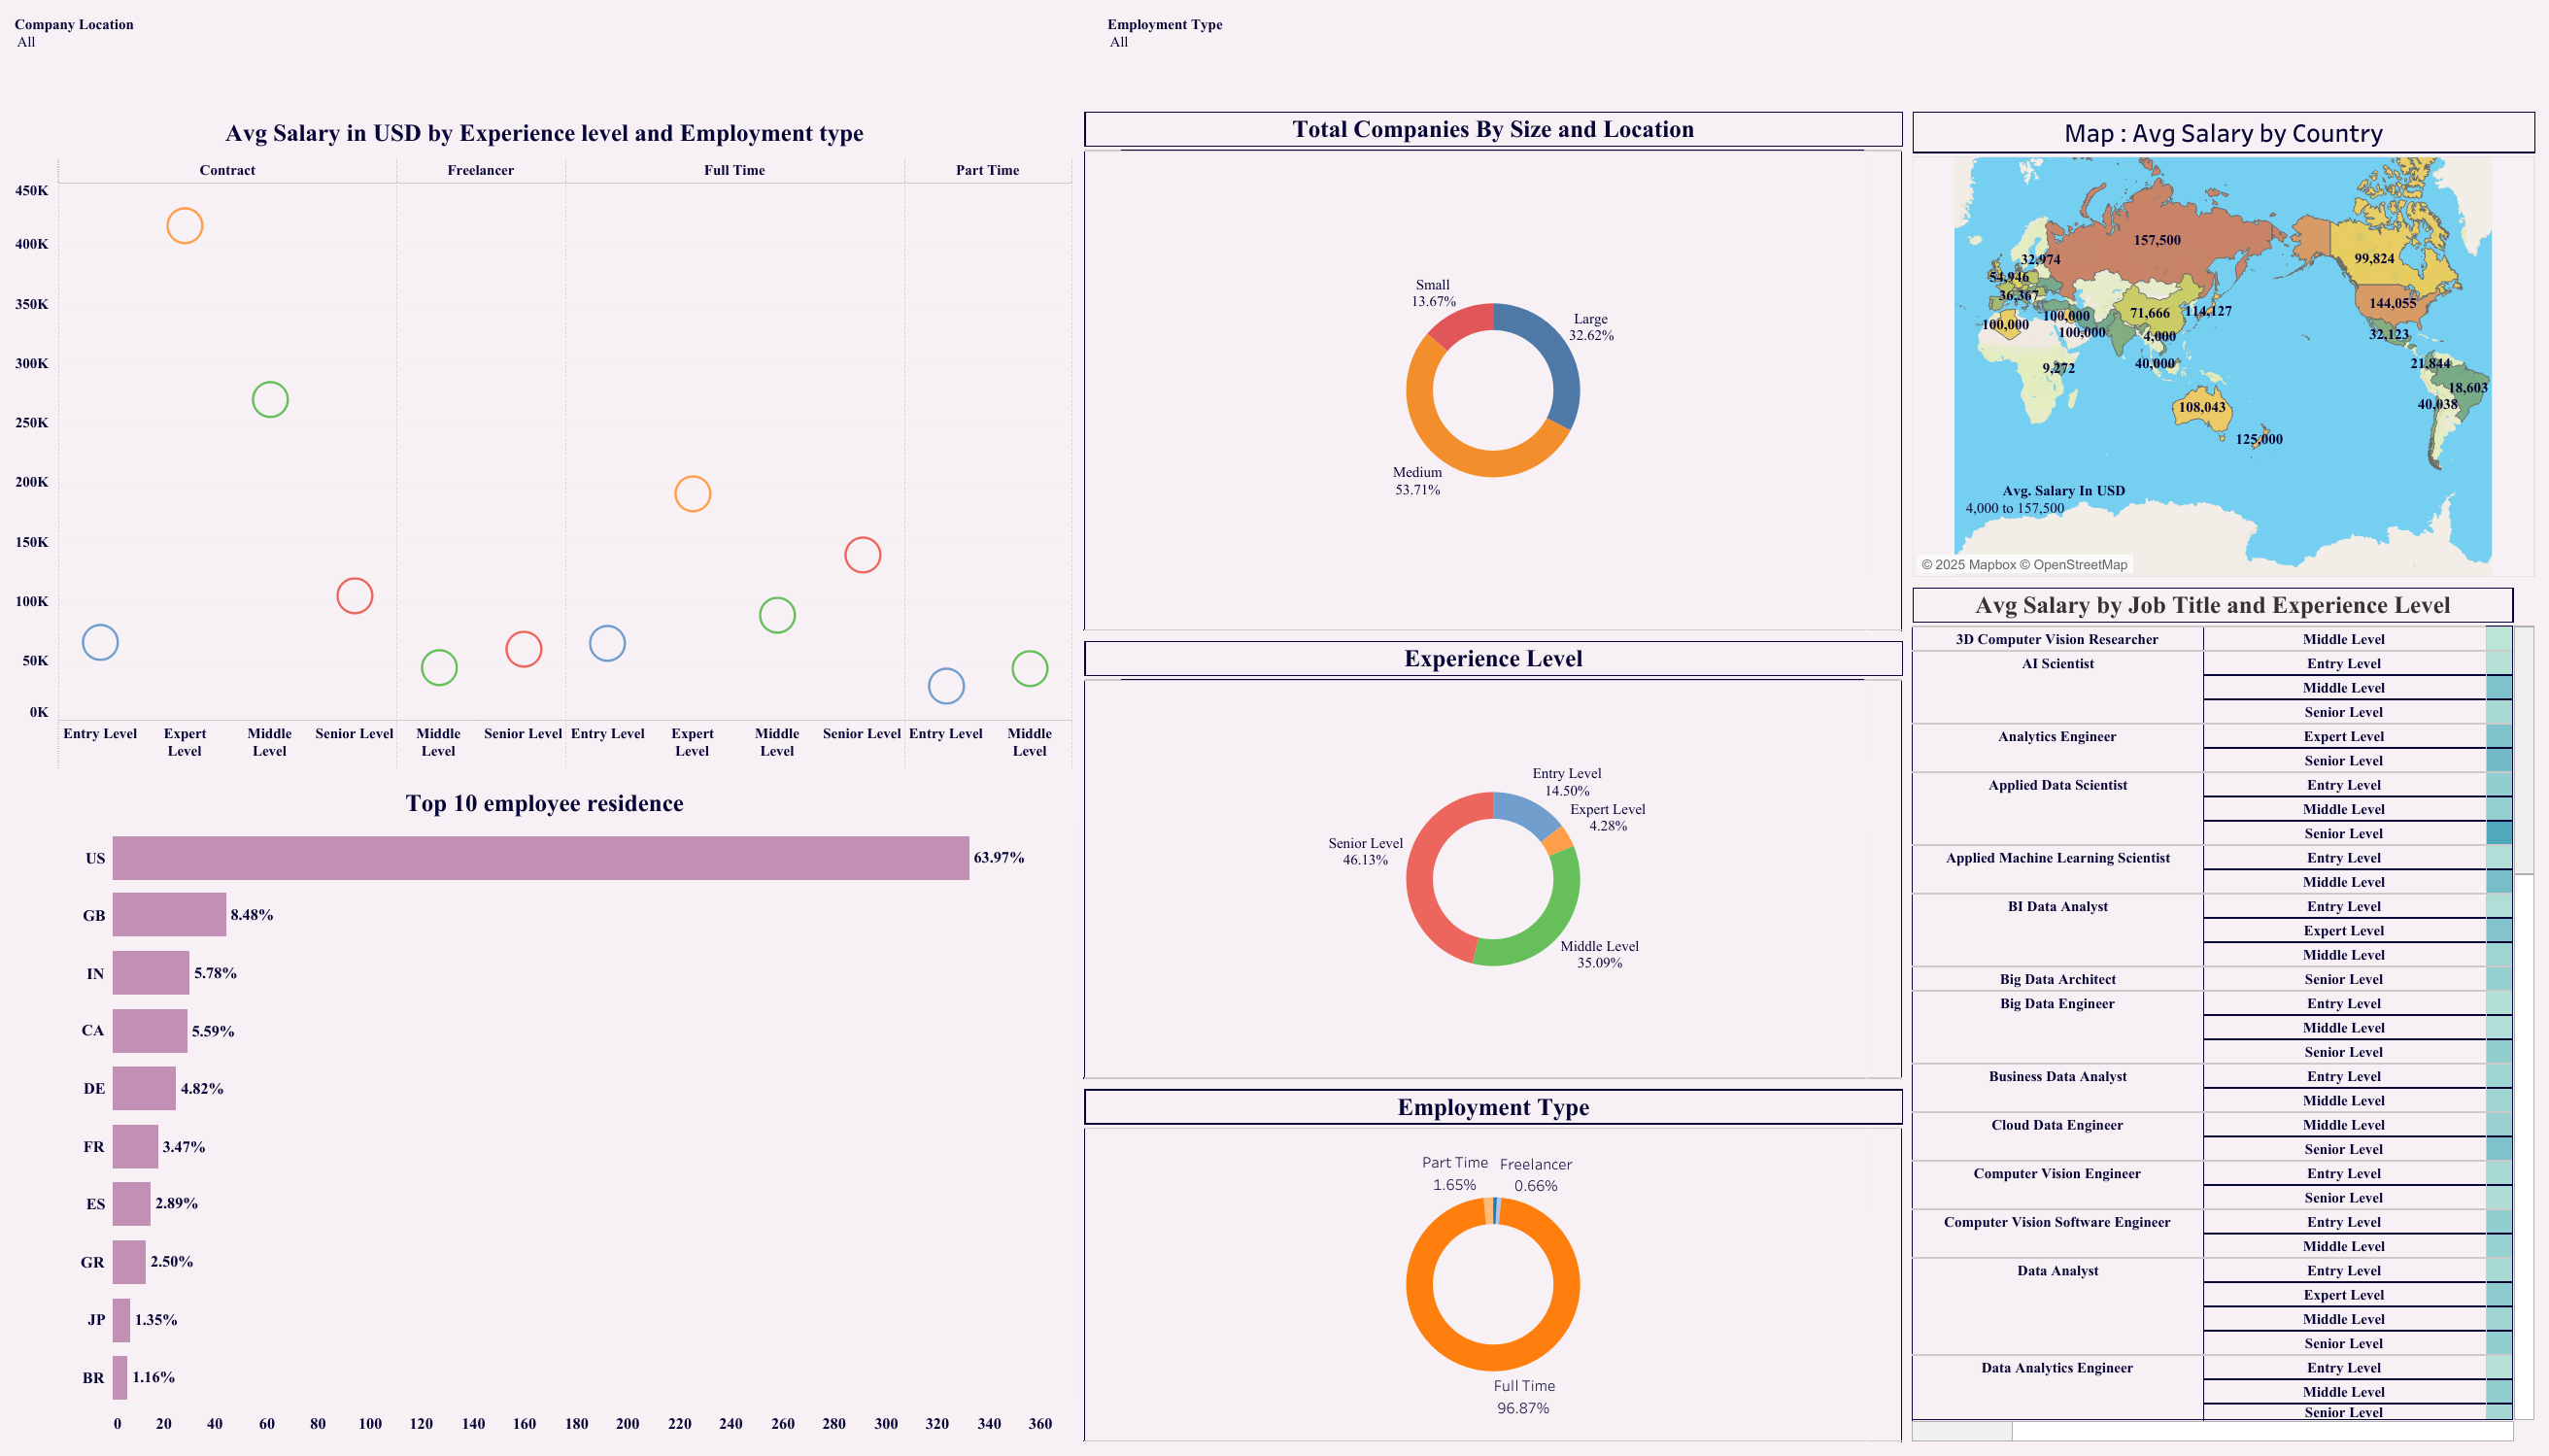

The page's visual inventory and layout, read from the dashboard file:
{"tool":"tableau","page":{"name":"Dashboard 1","canvas":[2100,1200],"ordinal":0},"visuals":[{"type":"filter","title":"Avg Salary by Job Title and Experience Level","param":"[federated.0pefbf01w8c67e10d8yc71j4gho7].[none:company_location:nk]","box":[8,8,900,57]},{"type":"filter","title":"Avg Salary in USD by Experience level and Employment type","param":"[federated.0pefbf01w8c67e10d8yc71j4gho7].[none:employment_type:nk]","box":[908,8,1184,80]},{"type":"worksheet","title":"Avg Salary in USD by Experience level and Employment type","mark":"Shape","rows":["salary_in_usd"],"cols":["employment_type","experience_level"],"box":[8,88,880.8,552]},{"type":"worksheet","title":"Total Companies By Size and Location","mark":"Pie","rows":["Calculation_772648870093152257","Calculation_772648870093152257"],"box":[888.8,88,682.2,436]},{"type":"worksheet","title":"Map : Avg Salary by Country","mark":"Automatic","box":[1571,88,521,391.6]},{"type":"filter","title":"Map : Avg Salary by Country","param":"[federated.0pefbf01w8c67e10d8yc71j4gho7].[avg:salary_in_usd:qk]","box":[1616,396,168,57]},{"type":"worksheet","title":"Avg Salary by Job Title and Experience Level","mark":"Square","rows":["job_title","experience_level"],"box":[1571,479.6,521,712.4]},{"type":"worksheet","title":"Experience Level","mark":"Pie","rows":["Calculation_772648870093152257","Calculation_772648870093152257"],"box":[888.8,524,682.2,369.3]},{"type":"worksheet","title":"Top 10 employee residence","mark":"Automatic","rows":["employee_residence"],"cols":["employee_residence"],"box":[8,640,880.8,552]},{"type":"worksheet","title":"Employment Type","mark":"Pie","rows":["Calculation_772648870093152257","Calculation_772648870093152257"],"box":[888.8,893.4,682.2,298.6]}]}

Visuals, with their boxes in screenshot pixels (x1, y1, x2, y2), scaled from the page's 2100x1200 canvas onto the 2549x1456 screenshot:
"Avg Salary by Job Title and Experience Level" filter: select_region(10, 10, 1103, 79)
"Avg Salary in USD by Experience level and Employment type" filter: select_region(1103, 10, 2539, 107)
"Avg Salary in USD by Experience level and Employment type" worksheet (Shape marks): select_region(10, 107, 1079, 776)
"Total Companies By Size and Location" worksheet (Pie marks): select_region(1079, 107, 1907, 636)
"Map : Avg Salary by Country" worksheet: select_region(1907, 107, 2539, 582)
"Map : Avg Salary by Country" filter: select_region(1961, 481, 2165, 550)
"Avg Salary by Job Title and Experience Level" worksheet (Square marks): select_region(1907, 582, 2539, 1446)
"Experience Level" worksheet (Pie marks): select_region(1079, 636, 1907, 1084)
"Top 10 employee residence" worksheet: select_region(10, 776, 1079, 1446)
"Employment Type" worksheet (Pie marks): select_region(1079, 1084, 1907, 1446)
